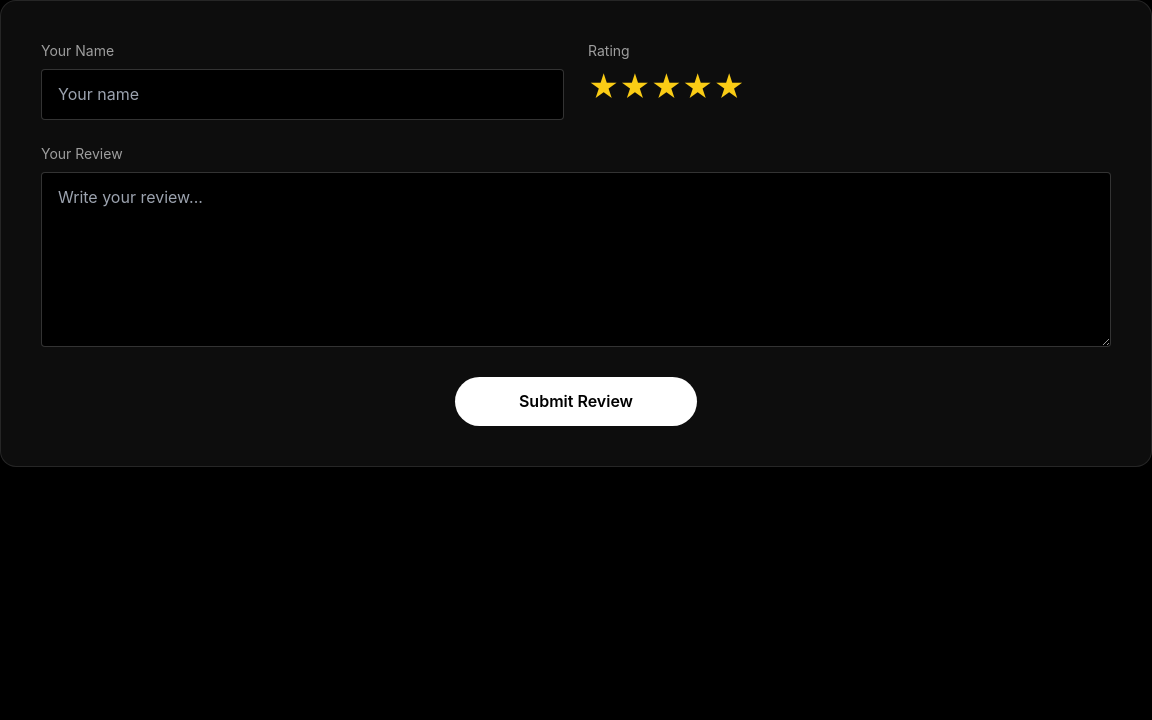
shows an error message when submission fails
Type "Priya" into the field with placeholder "Your Name" at (302, 94), box [41, 69, 564, 120]
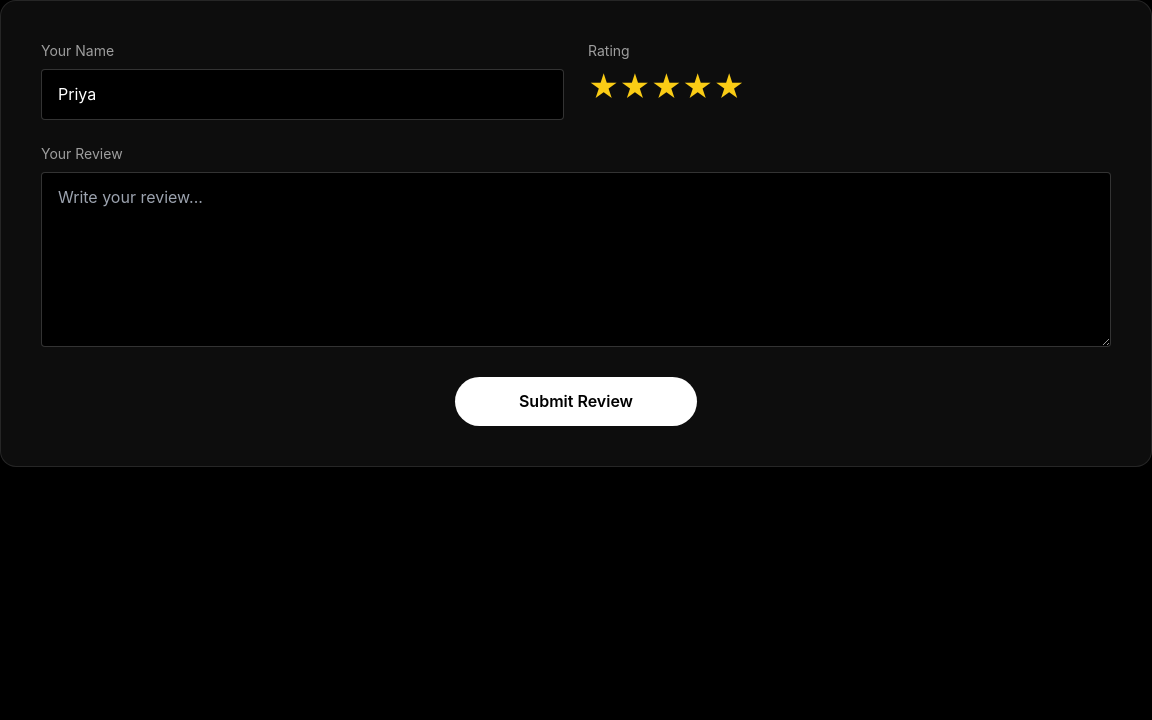
Type "x" into the text box with placeholder "Write your review..." at (576, 259), box [41, 172, 1111, 347]
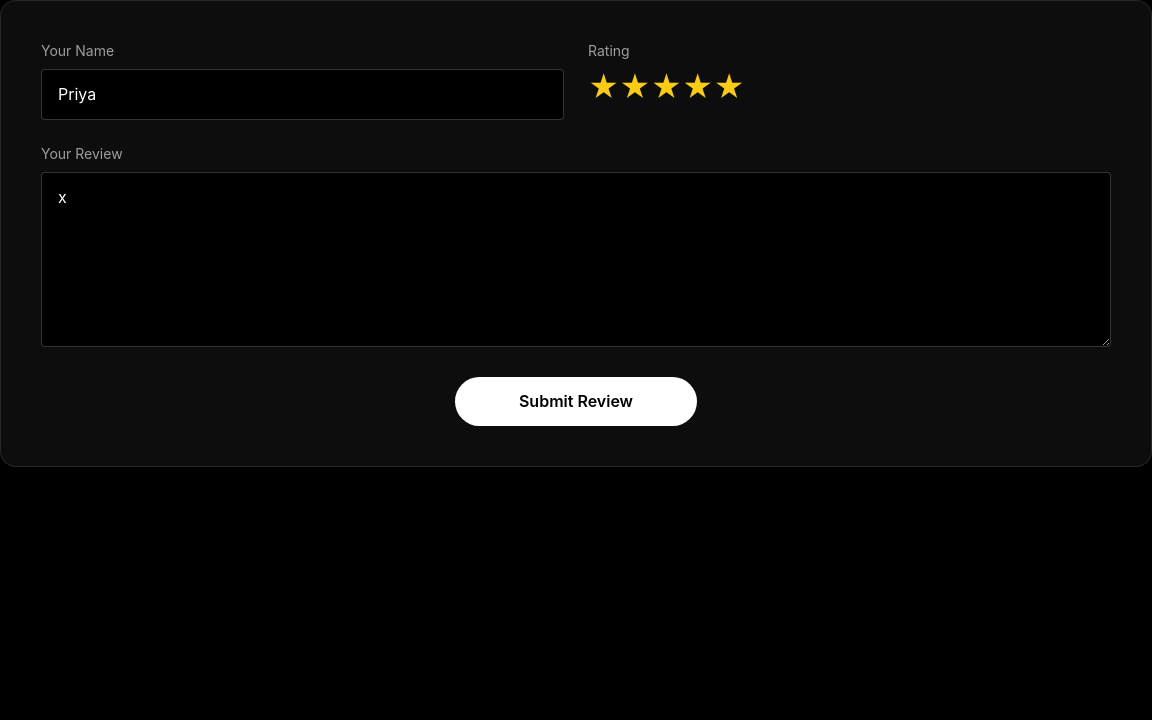
Click the button "Submit Review" at (576, 402), box [455, 377, 697, 426]
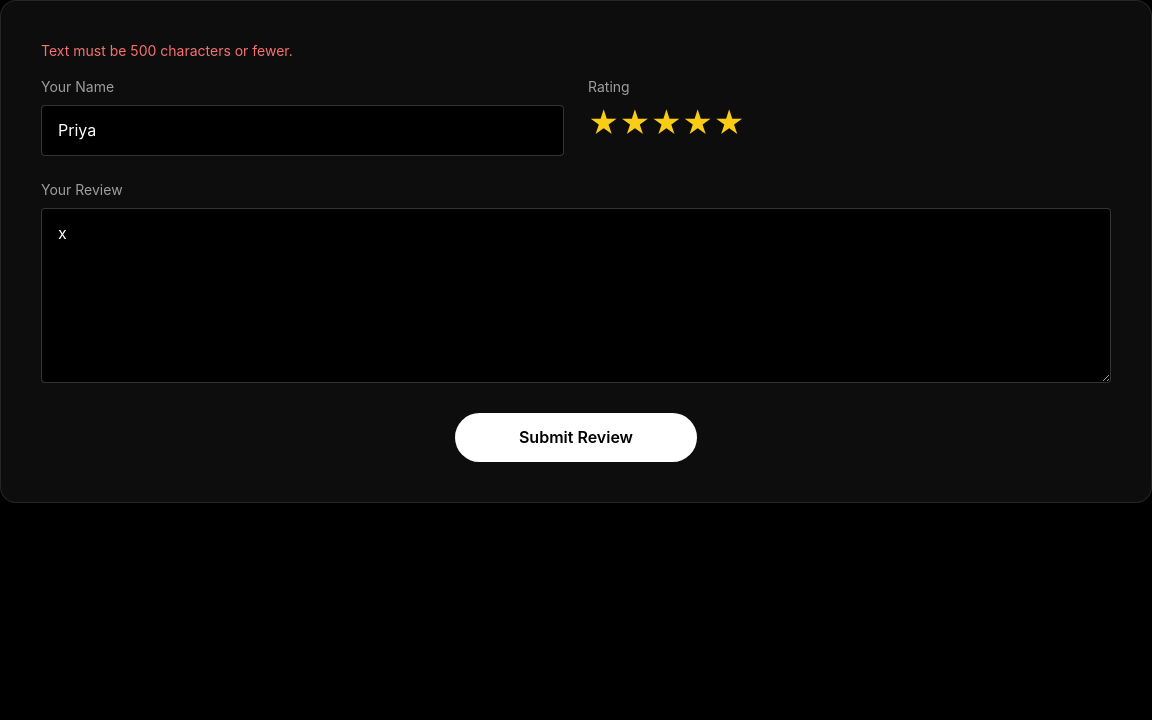
Expected: the text "Text must be 500 characters or fewer." is shown, [41, 42, 293, 59]
